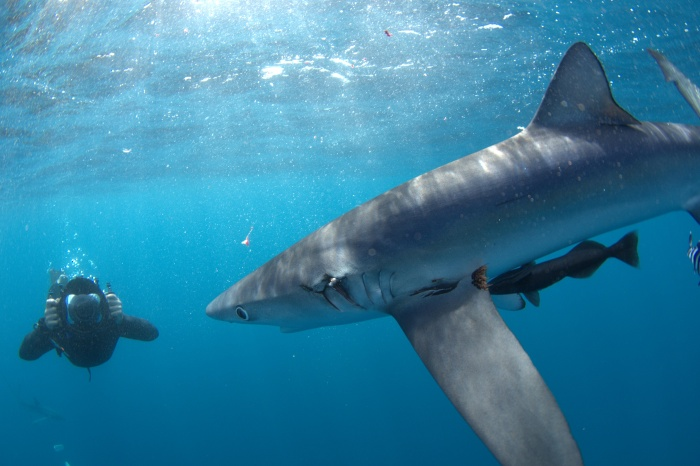Azul: (185, 21, 700, 465)
